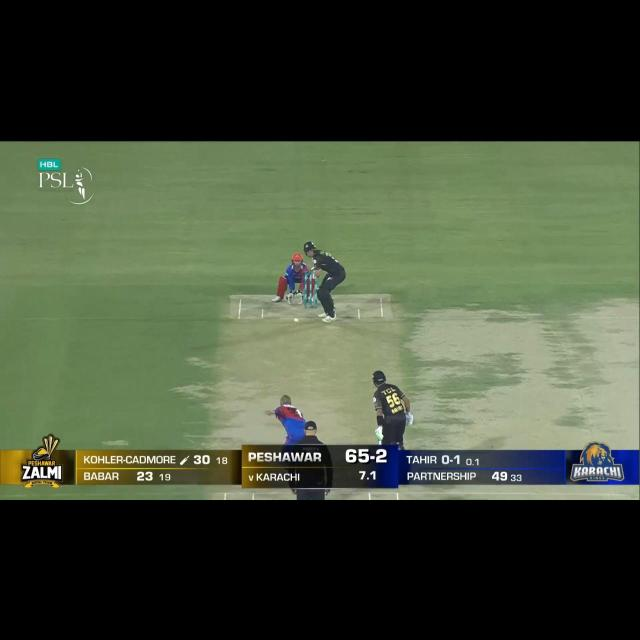bat: (310, 258, 316, 268)
